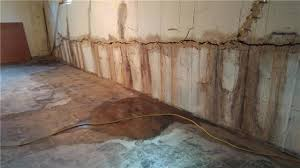crack: (55, 35, 299, 48)
